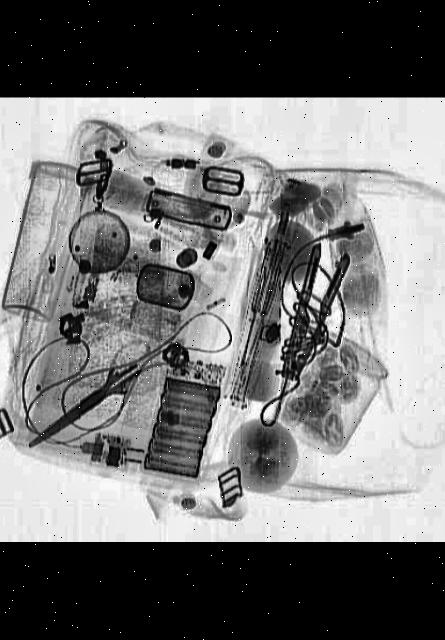Knife: (15, 357, 154, 458)
